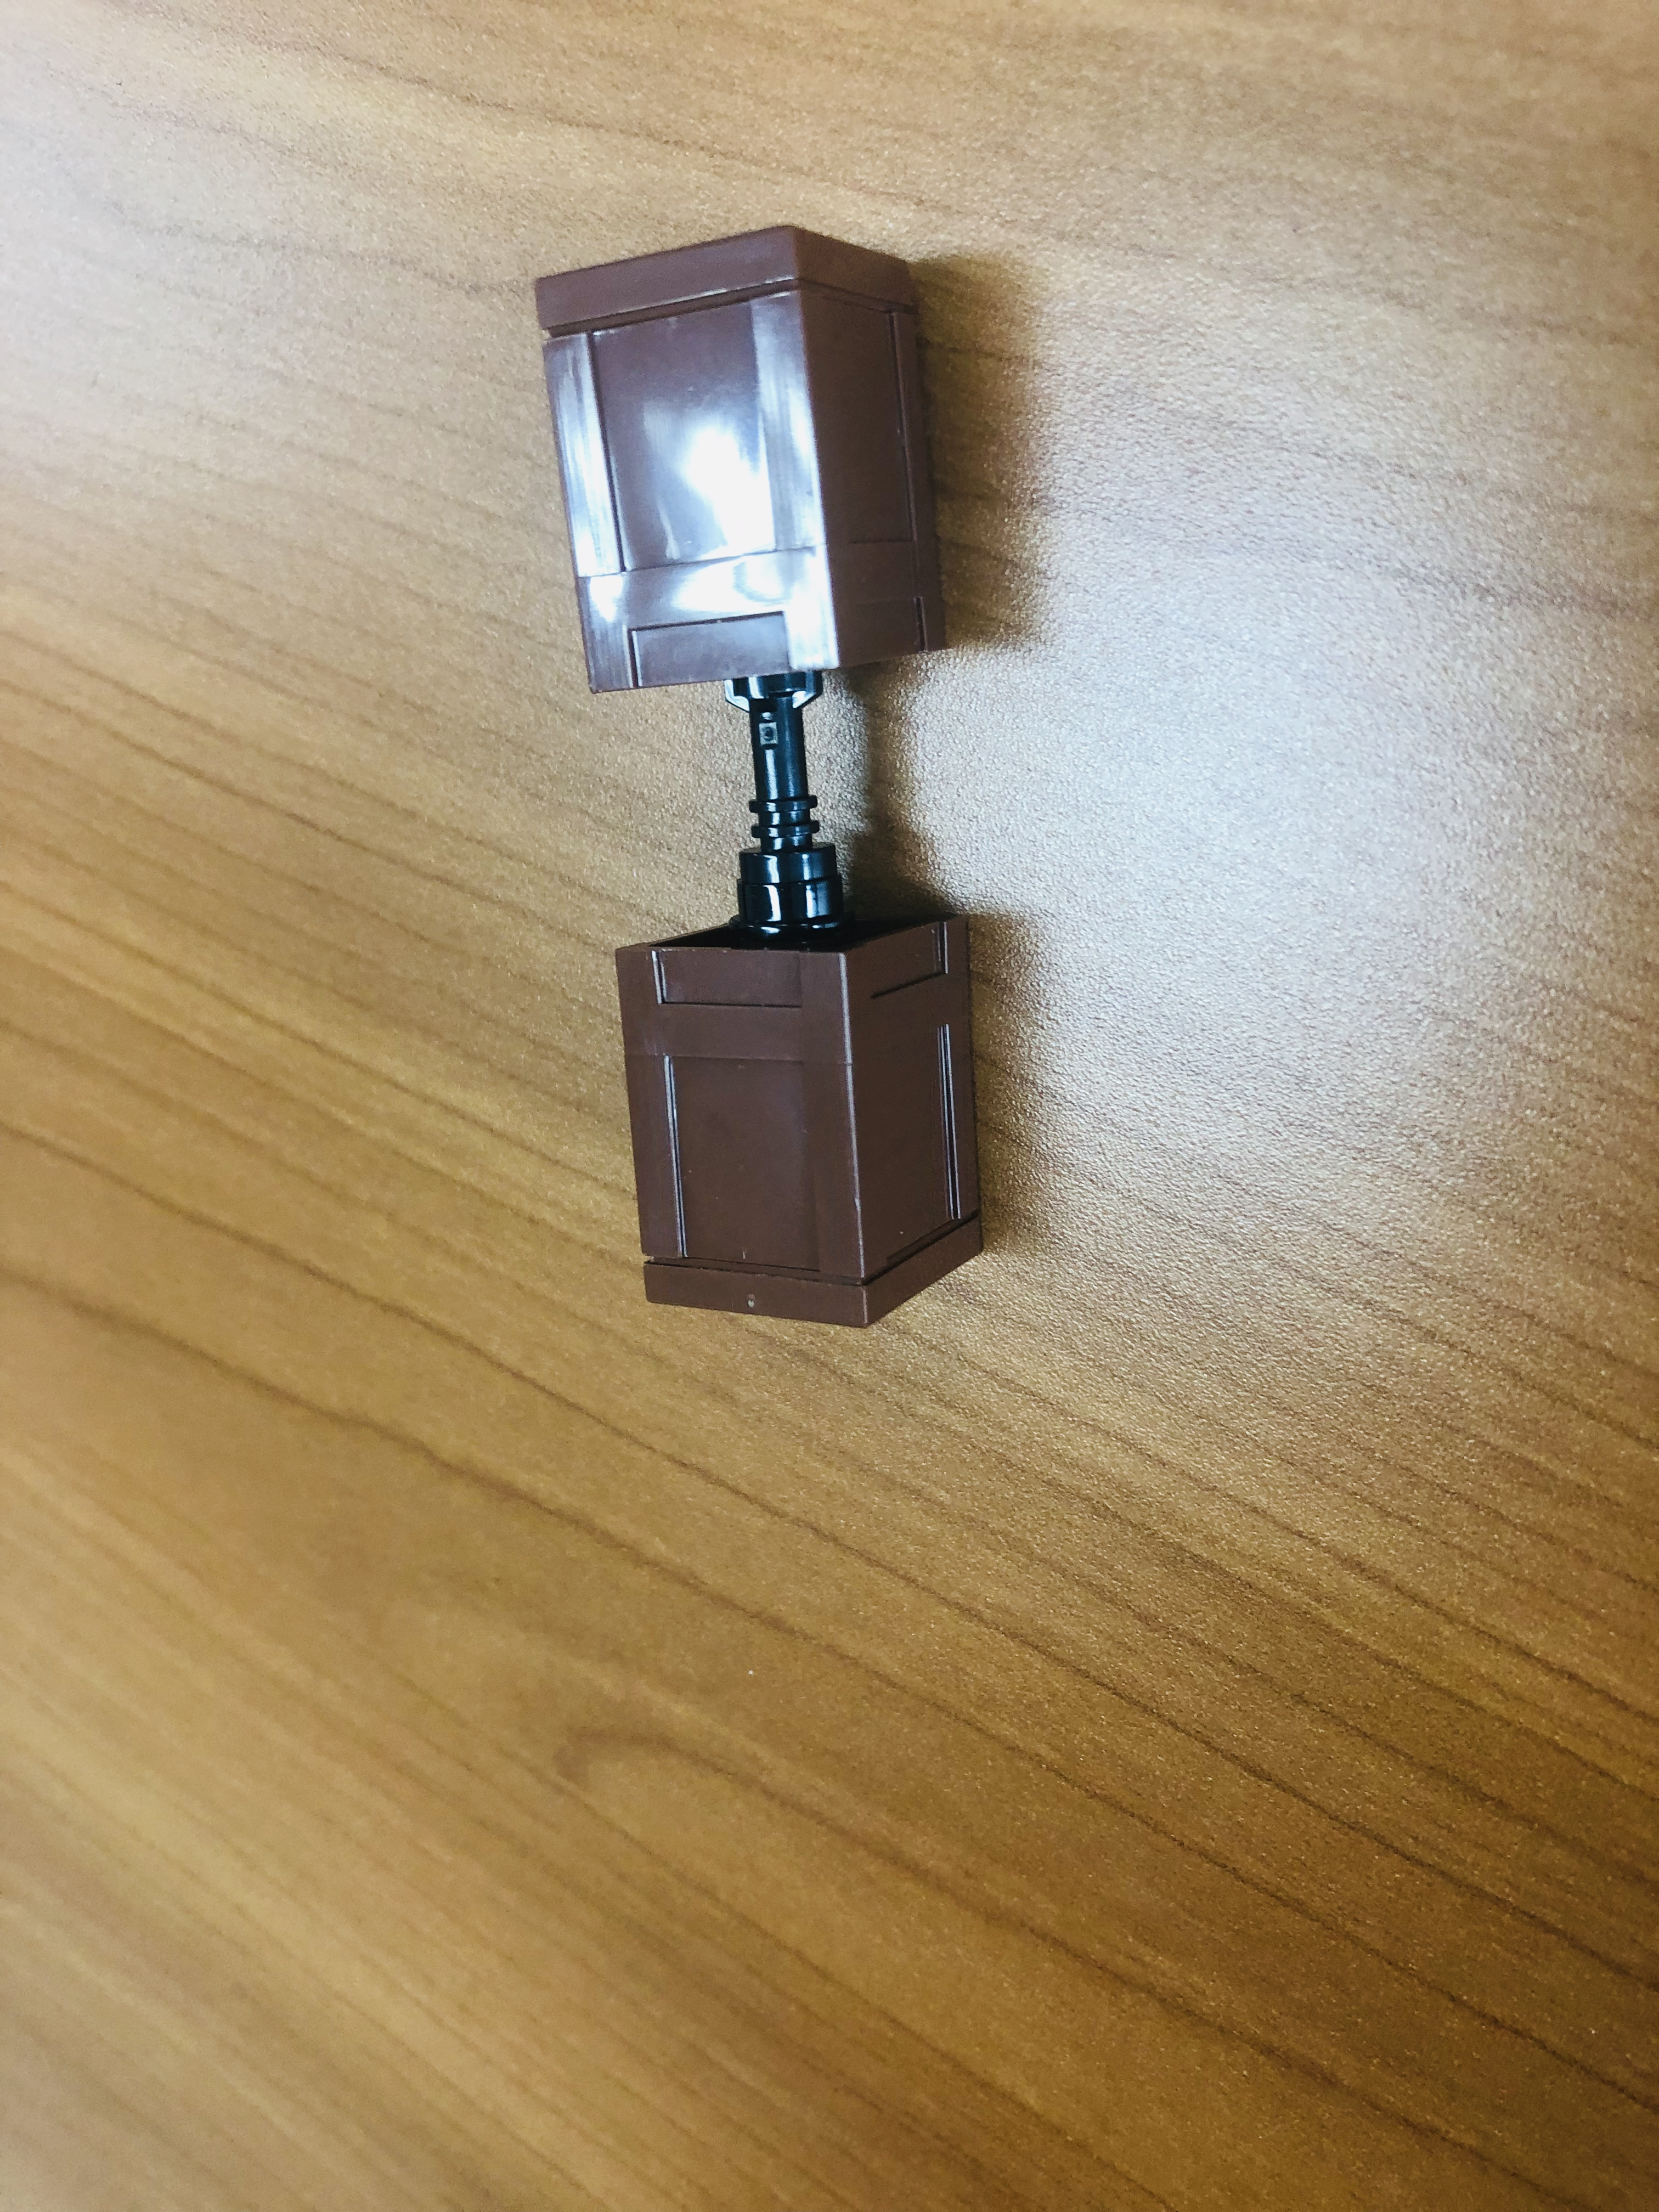box: (531, 227, 953, 693), (608, 906, 992, 1331)
